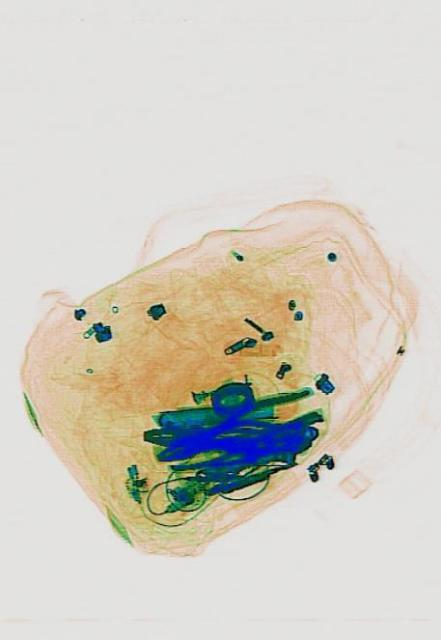Pliers: (150, 376, 321, 484)
